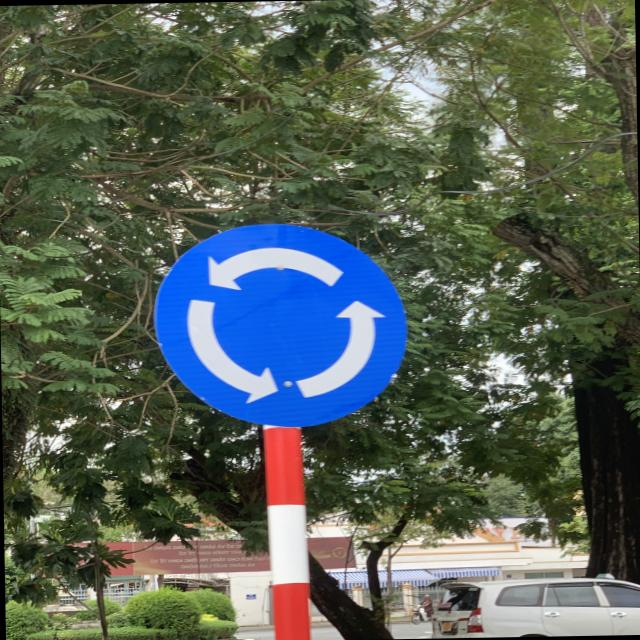Xe_Bus: (154, 219, 408, 427)
